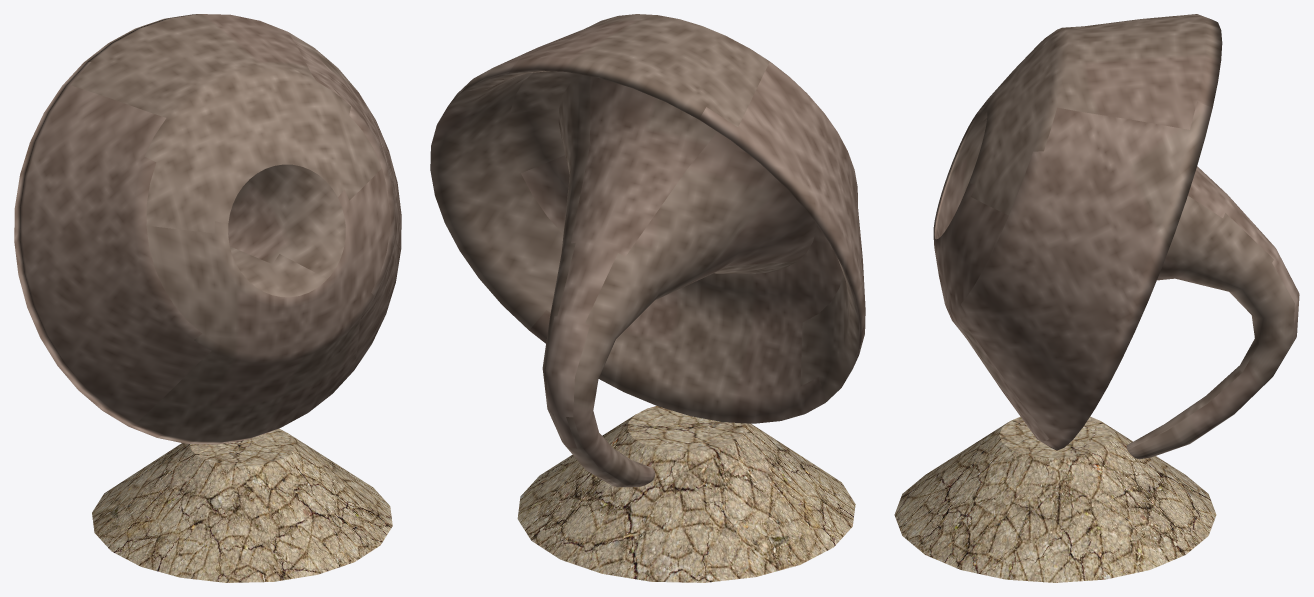
The model's file is AudioMushroom.fbx.
3 renders of one model, left to right at view 1: azimuth 30°, elevation 25°; view 2: azimuth 150°, elevation 25°; view 3: azimuth 270°, elevation 25°, orthographic. The views are drawn at different scales.
Visible parts, largest first — view 1: Mushroom1, Dirt; view 2: Mushroom1, Dirt; view 3: Mushroom1, Dirt.
Boxes of the visible parts, x1=… form: Mushroom1: x1=14, y1=14, x2=401, y2=444; Dirt: x1=92, y1=428, x2=392, y2=582; Mushroom1: x1=430, y1=14, x2=865, y2=487; Dirt: x1=517, y1=406, x2=855, y2=582; Mushroom1: x1=933, y1=14, x2=1299, y2=459; Dirt: x1=894, y1=416, x2=1216, y2=582.
Size of the model in its own units: 26.01 by 29.88 by 22.95.
